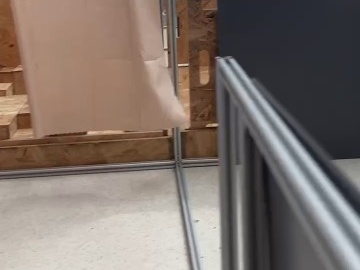curtain: (0, 0, 176, 151)
